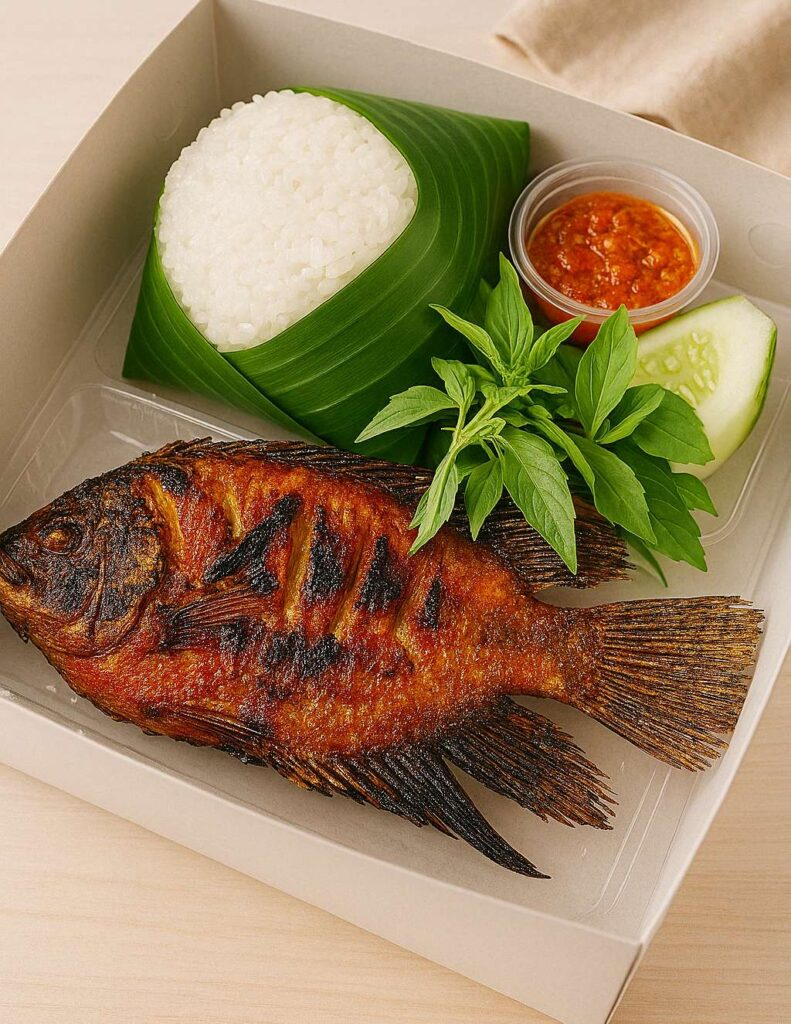buah_sayur_lainnya: (457, 324, 579, 503), (673, 330, 751, 405)
buah_sayur_vitA: (548, 199, 652, 295)
daging: (58, 511, 401, 708)
makanan_berpati: (200, 128, 334, 280)
